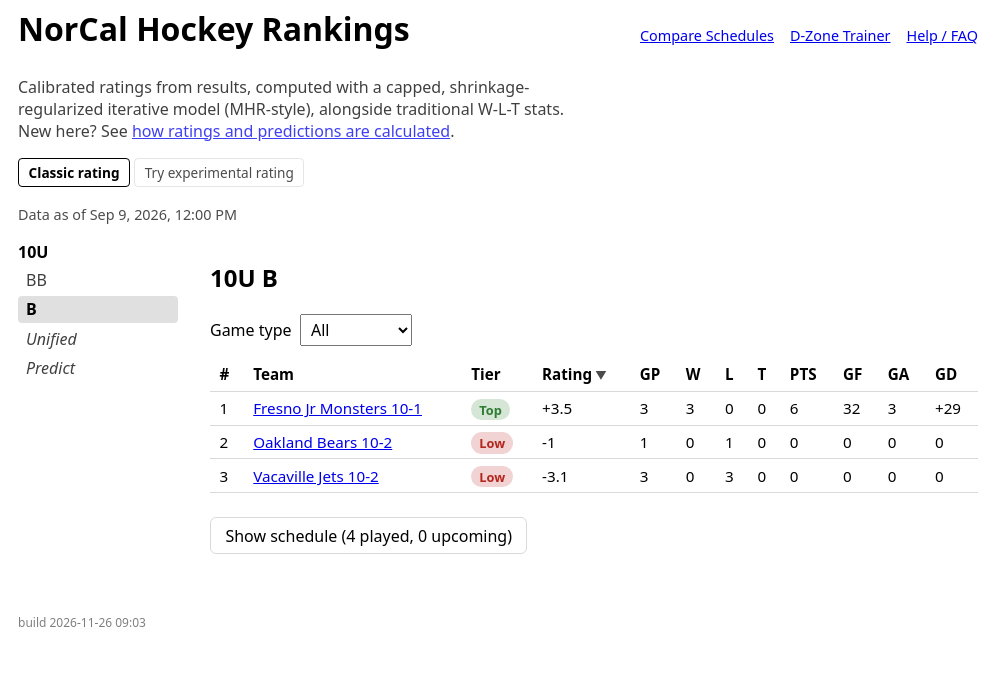
Test case: App › predicts a cross-division matchup as resting on the prior when no bridge game has been played, and explains it
Expected: the link "Fresno Jr Monsters 10-1" is shown, [253, 398, 422, 418]
Click the link "Predict" at (51, 368), box [26, 357, 75, 379]
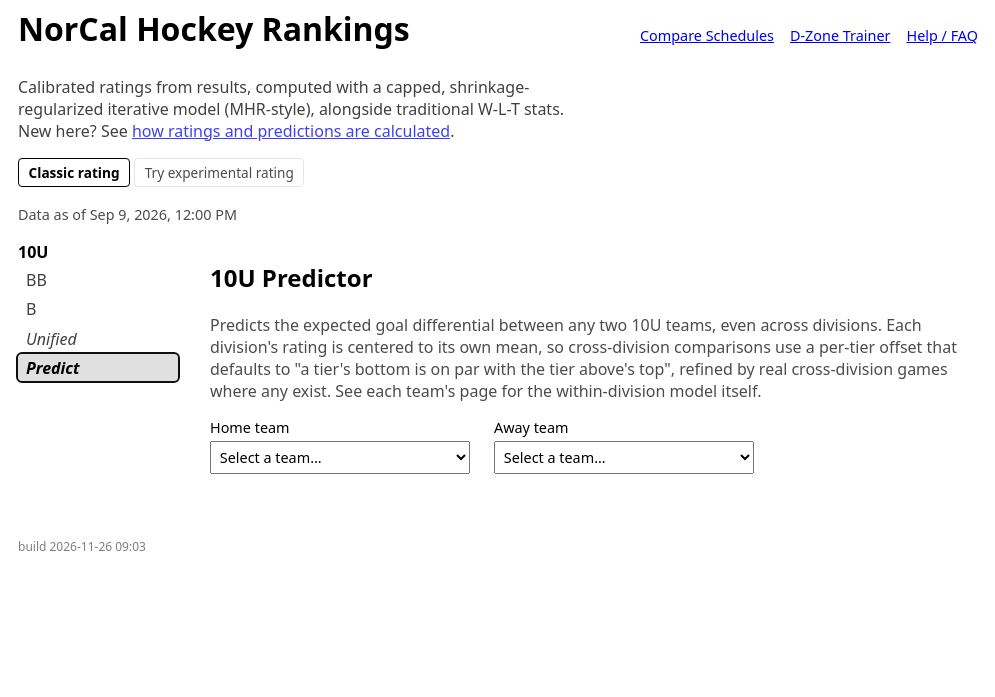
Expected: the heading "10U Predictor" is shown, [210, 261, 372, 294]
Select "Fresno Jr Monsters 10-1" in the dropdown labelled "Home team" at (340, 458), box [210, 442, 470, 474]
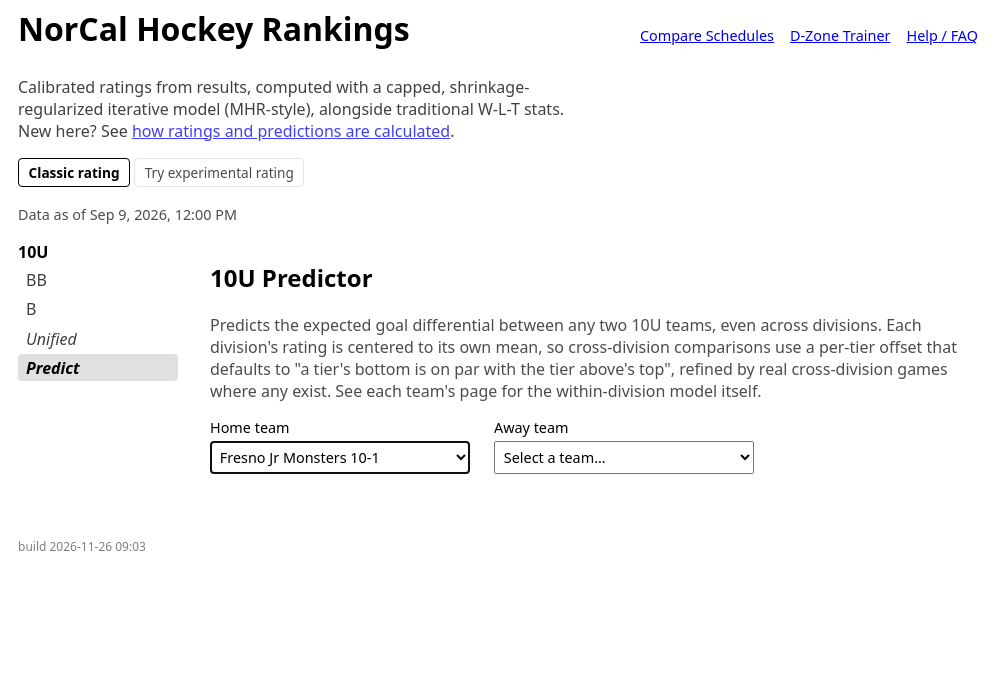
Select "Capital Thunder 10-1" in the dropdown labelled "Away team" at (624, 458), box [494, 442, 754, 474]
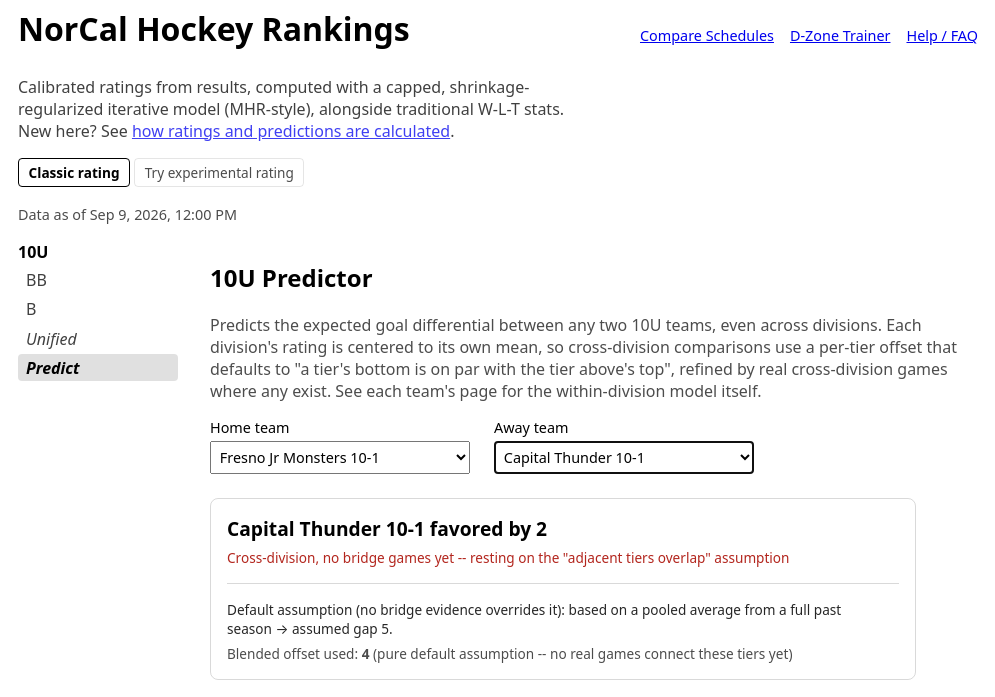
Expected: the text "Capital Thunder 10-1 favored by 2" is shown, [227, 515, 547, 542]
Expected: the text "no bridge games yet" is shown, [227, 548, 790, 567]
Expected: the text "pooled average from a full past season" is shown, [227, 600, 841, 638]
